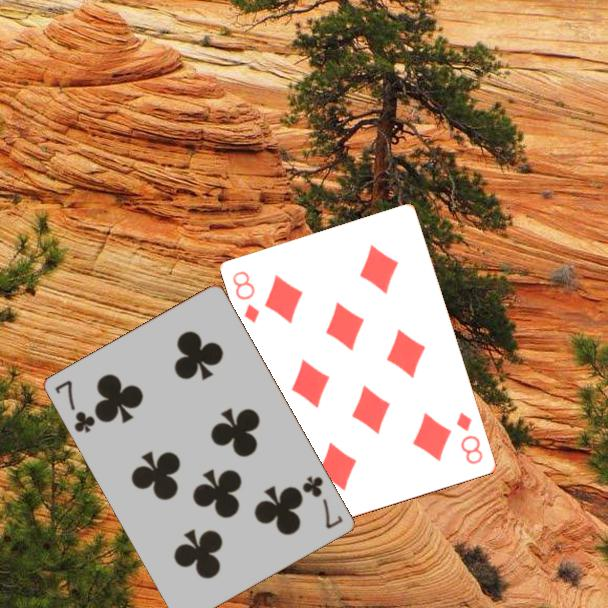c07: (299, 472, 346, 532), (52, 377, 98, 436)
d08: (229, 268, 263, 326), (453, 409, 486, 468)
